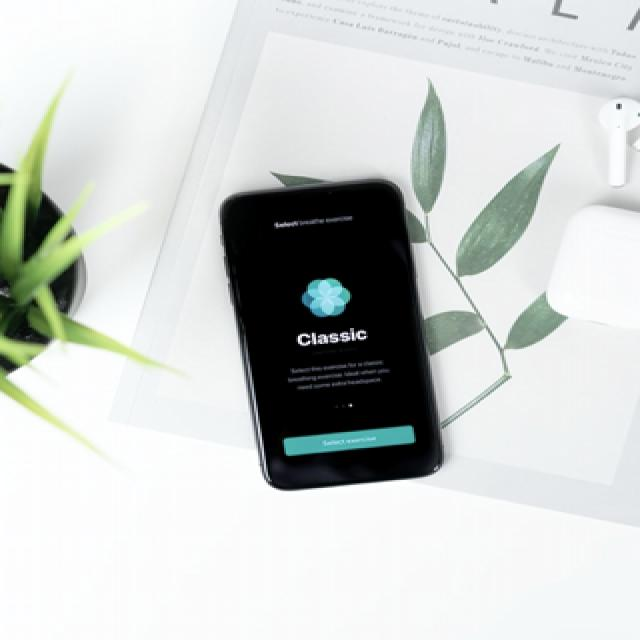cellphone: (218, 178, 444, 490)
